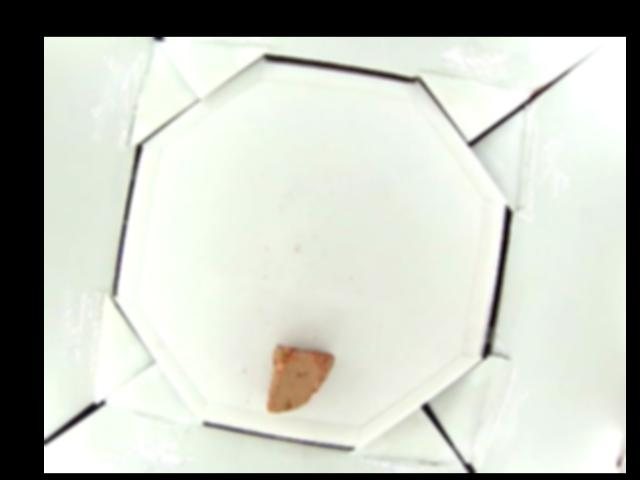Brisk: (265, 345, 335, 415)
